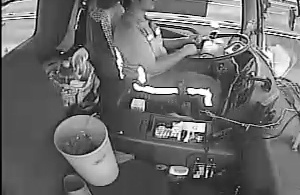paper: (170, 119, 207, 136)
